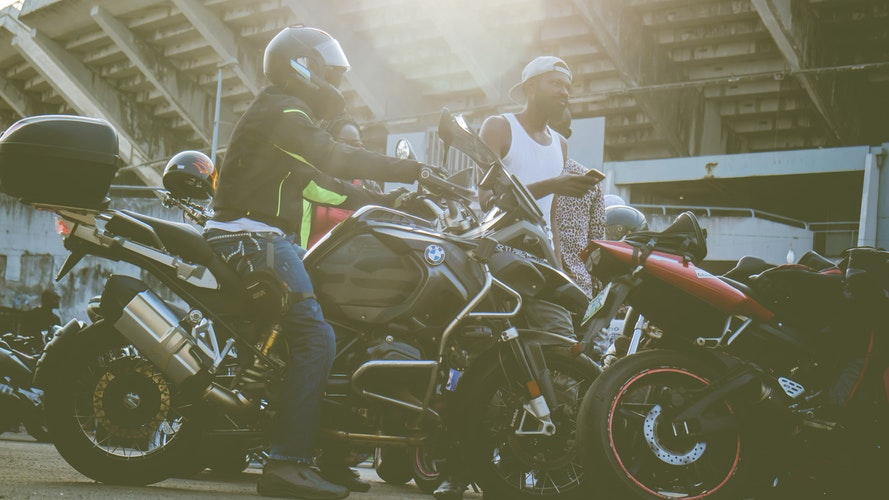helmet: (259, 18, 375, 124)
